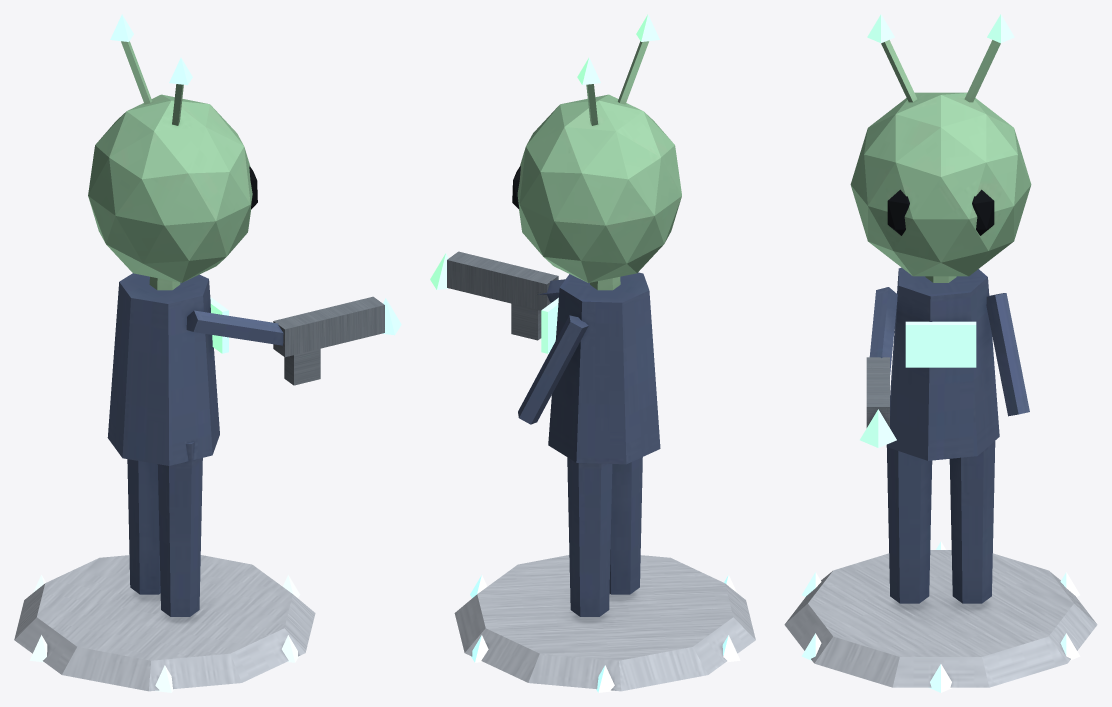
File: alien_tex.glb
3 renders of one model, left to right at view 1: azimuth 30°, elevation 25°; view 2: azimuth 150°, elevation 25°; view 3: azimuth 270°, elevation 25°, orthographic.
Parts seen in each view (by area): view 1: Kropp, Skiva; view 2: Kropp, Skiva; view 3: Kropp, Skiva.
Boxes of the visible parts, x1,y1,x2,y2 form: Kropp: (88, 14, 401, 616); Skiva: (14, 555, 315, 692); Kropp: (430, 14, 681, 616); Skiva: (454, 555, 755, 692); Kropp: (850, 14, 1031, 603); Skiva: (784, 541, 1097, 692).
Size of the model in its own units: 1.02 by 1.77 by 0.8.
7 materials, 4 textured.
